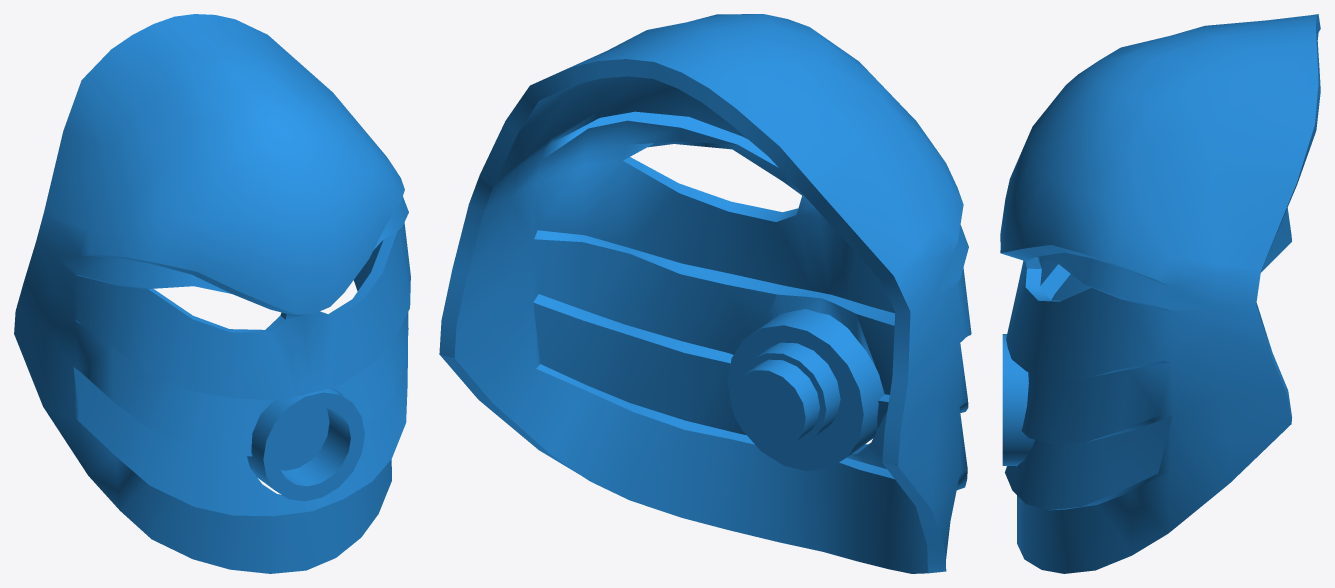
File: bionicle_rau_mask_32574.glb
The picture shows the model from 3 angles, left to right: view 1: azimuth 30°, elevation 25°; view 2: azimuth 150°, elevation 25°; view 3: azimuth 270°, elevation 25°; orthographic projection. The views are drawn at different scales.
Parts seen in each view (by area): view 1: 00001_32574.dat; view 2: 00001_32574.dat; view 3: 00001_32574.dat.
Part boxes in pixels (x1,y1,x2,y2): 00001_32574.dat: (14,14,410,573); 00001_32574.dat: (439,14,971,573); 00001_32574.dat: (1000,14,1320,573).
Size of the model in its own units: 1.88 by 2.4 by 1.35.
